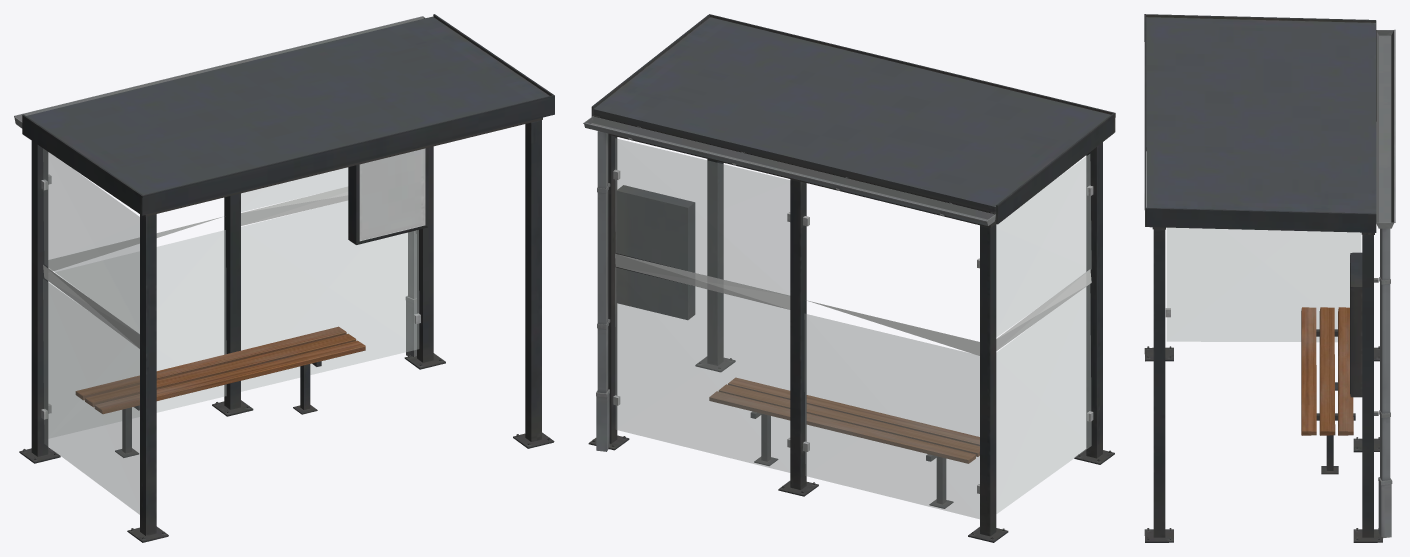
The model's file is shelter.glb.
3 views of the same model, side by side, from view 1: azimuth 30°, elevation 25°; view 2: azimuth 150°, elevation 25°; view 3: azimuth 270°, elevation 25° (orthographic). The views are drawn at different scales.
Parts seen in each view (by area): view 1: bus-stop-shelter_body, bus-stop-shelter_back_0_glass, bus-stop-shelter_bench; view 2: bus-stop-shelter_back_0_glass, bus-stop-shelter_body, bus-stop-shelter_bench; view 3: bus-stop-shelter_body, bus-stop-shelter_back_0_glass, bus-stop-shelter_bench.
Part boxes in pixels (x1,y1,x2,y2): bus-stop-shelter_body: (14,14,554,542); bus-stop-shelter_back_0_glass: (43,148,418,514); bus-stop-shelter_bench: (75,326,365,457); bus-stop-shelter_back_0_glass: (615,138,1091,518); bus-stop-shelter_body: (583,14,1115,542); bus-stop-shelter_bench: (709,377,979,508); bus-stop-shelter_body: (1144,14,1395,542); bus-stop-shelter_back_0_glass: (1167,228,1360,341); bus-stop-shelter_bench: (1301,307,1355,474).
Bounding box in the file's own units: 3.13 × 2.51 × 1.71.
5 materials, 2 textured.
